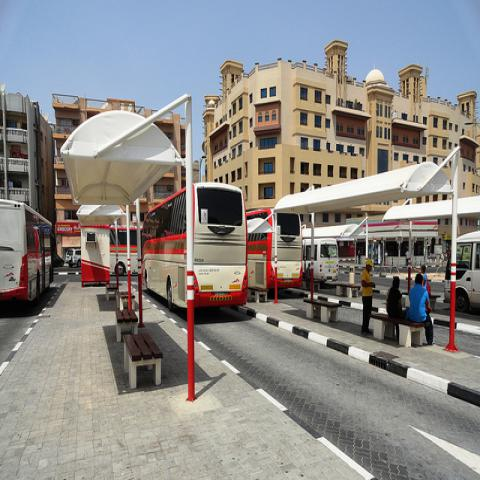bus: (140, 182, 248, 312), (1, 202, 53, 306), (243, 210, 302, 291), (443, 230, 479, 312), (302, 237, 338, 281), (247, 214, 275, 236)
car: (64, 248, 81, 268)
truck: (302, 238, 338, 281)
